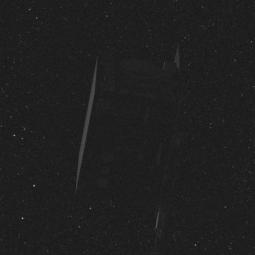proba_2: (83, 47, 192, 238)
